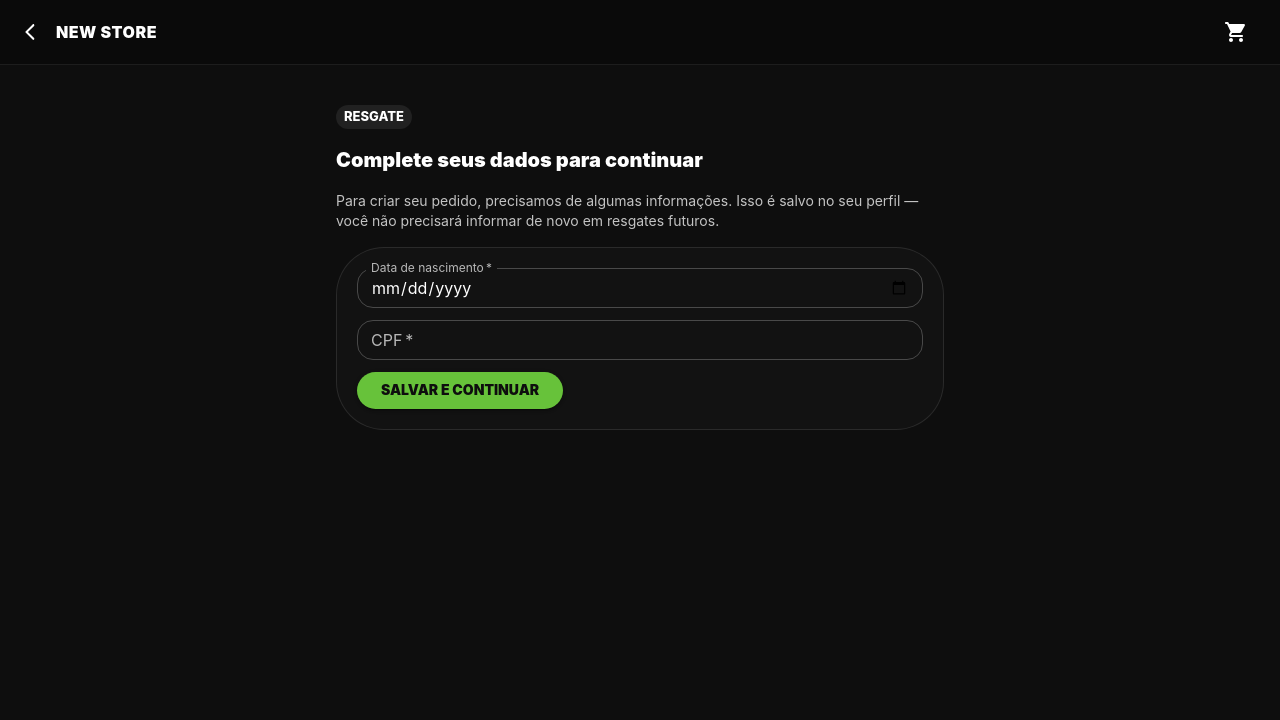
Test: perfil sem birth_date e sem cpf: pede os dois campos numa unica etapa
Type "1990-05-20" into the date field labelled "Data de nascimento *" at coordinates (640, 288), box top-left (357, 268), bottom-right (923, 308)
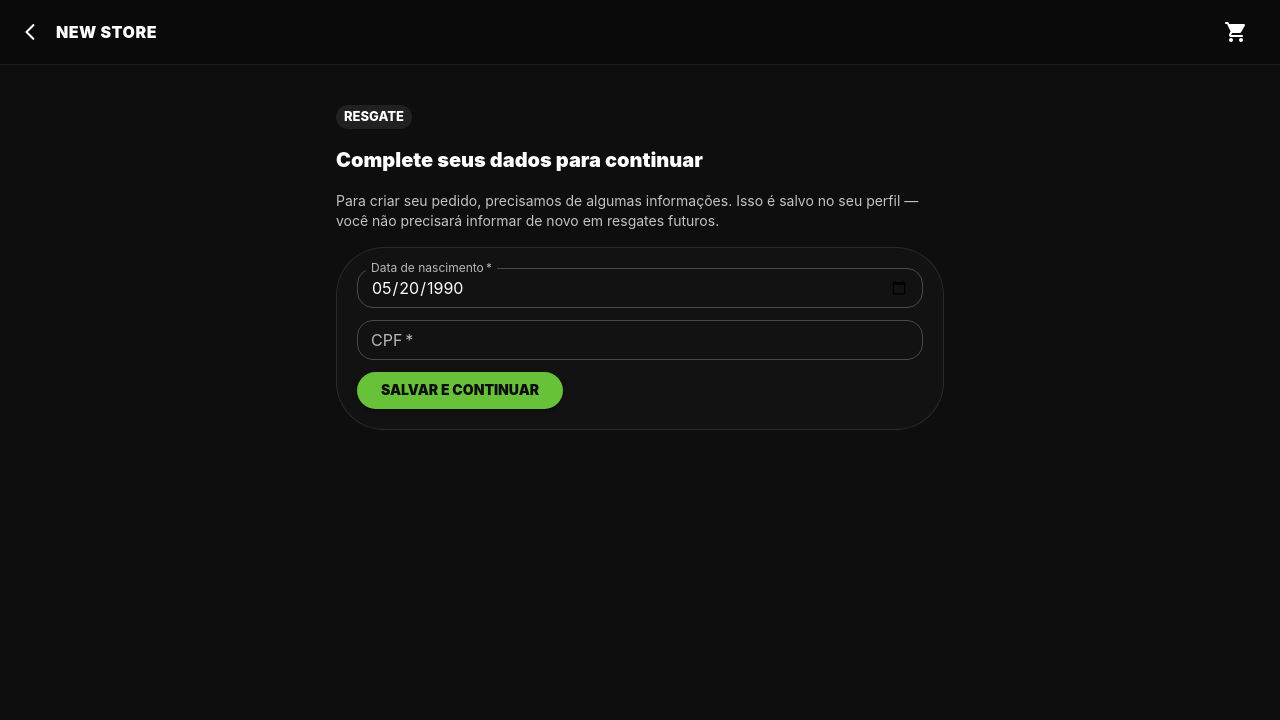
Type "111.444.777-35" into the field labelled "CPF *" at coordinates (640, 340), box top-left (357, 320), bottom-right (923, 360)
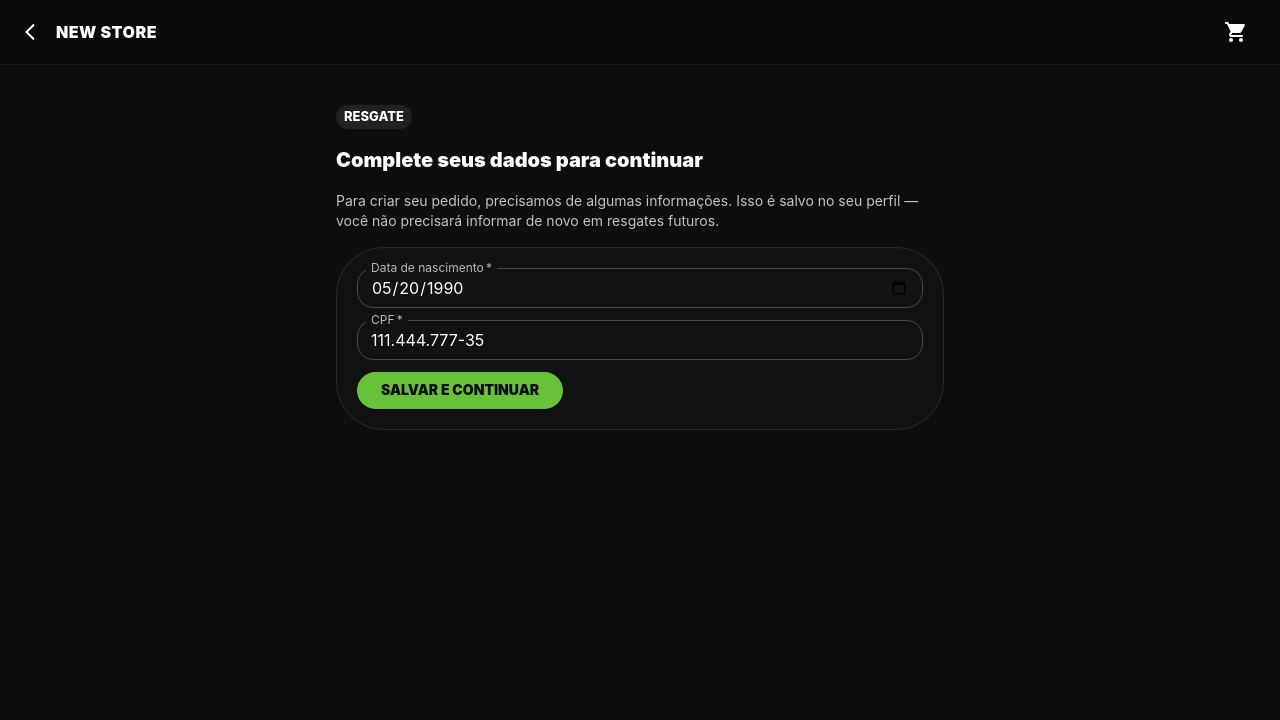
Click the button "SALVAR E CONTINUAR" at coordinates (460, 390), box top-left (357, 372), bottom-right (563, 408)
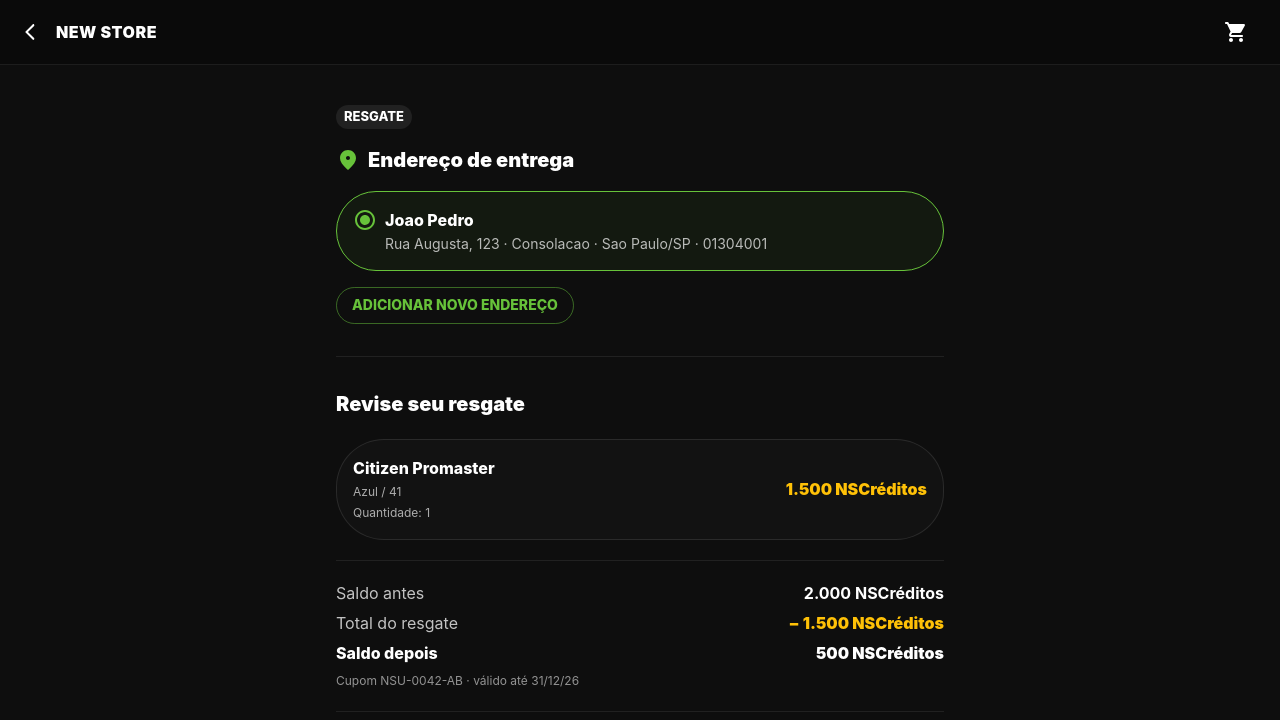
Expected: the text "Citizen Promaster" is shown, top-left (353, 458), bottom-right (495, 478)
